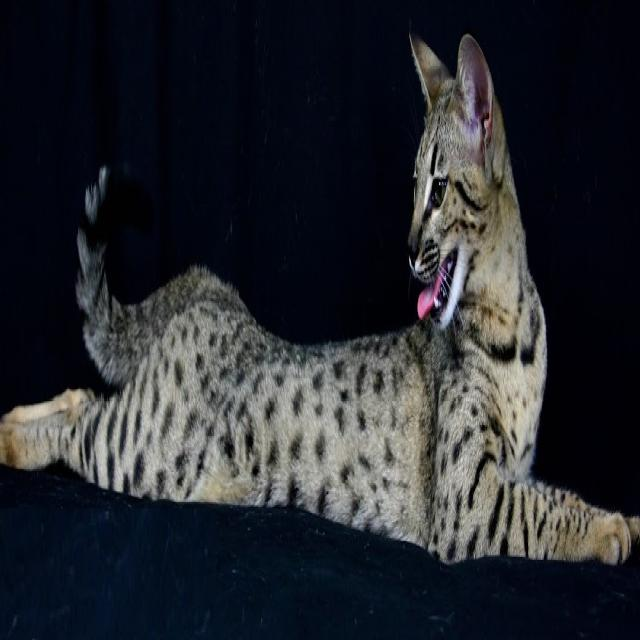Savannah: (0, 22, 640, 577)
